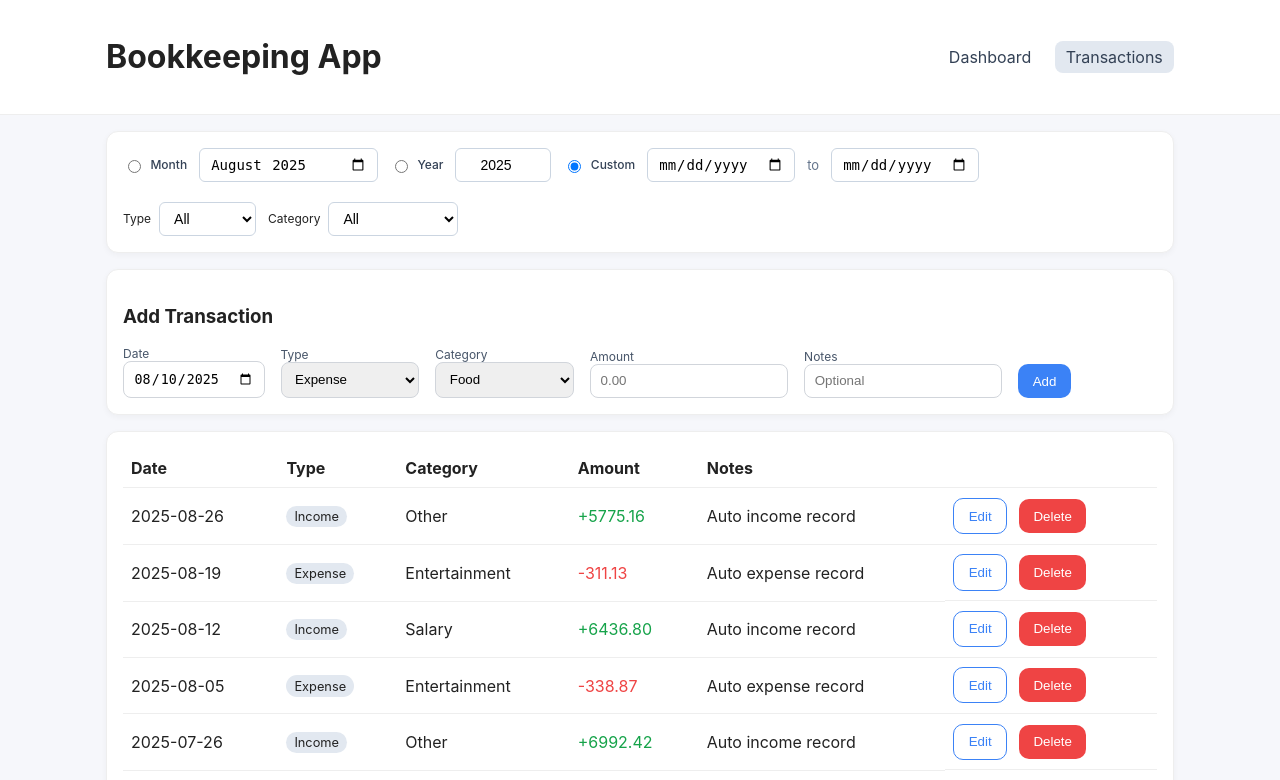
Scenario: Bookkeeping E2E - critical flows (Category=Other) › edits a transaction
Select "Other" in the 2nd dropdown at x=393, y=219, box [328,202,458,236]
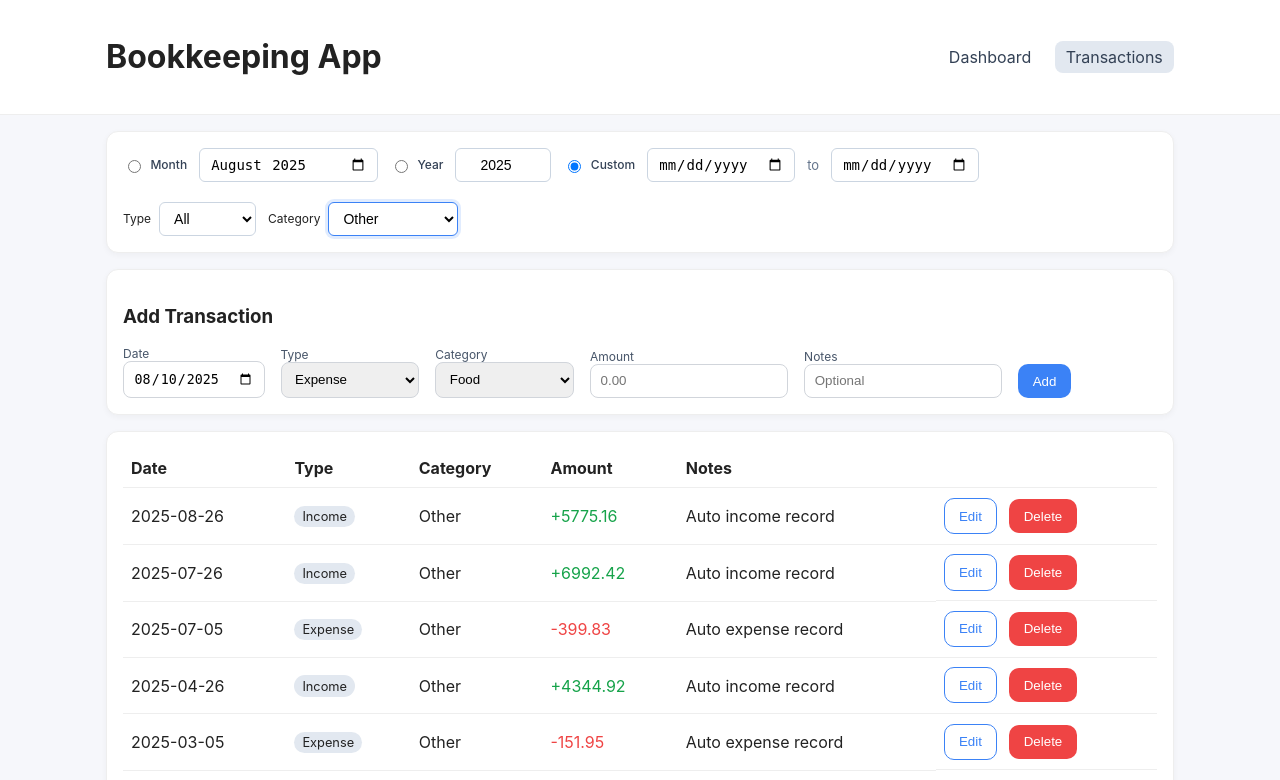
Select "Income" in the 1st dropdown at x=208, y=219, box [159,202,256,236]
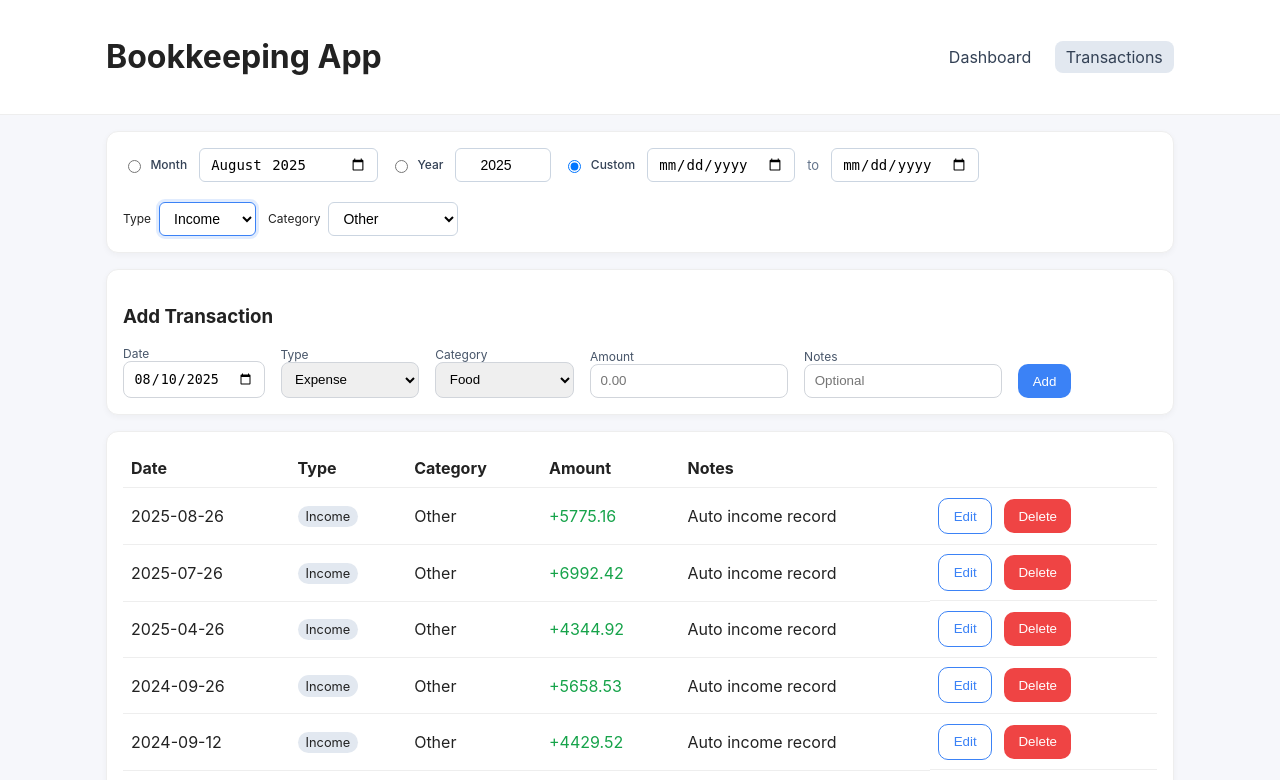
Click the button "Edit" in the row of "2025-08-26" at x=965, y=516, box [938,498,992,534]
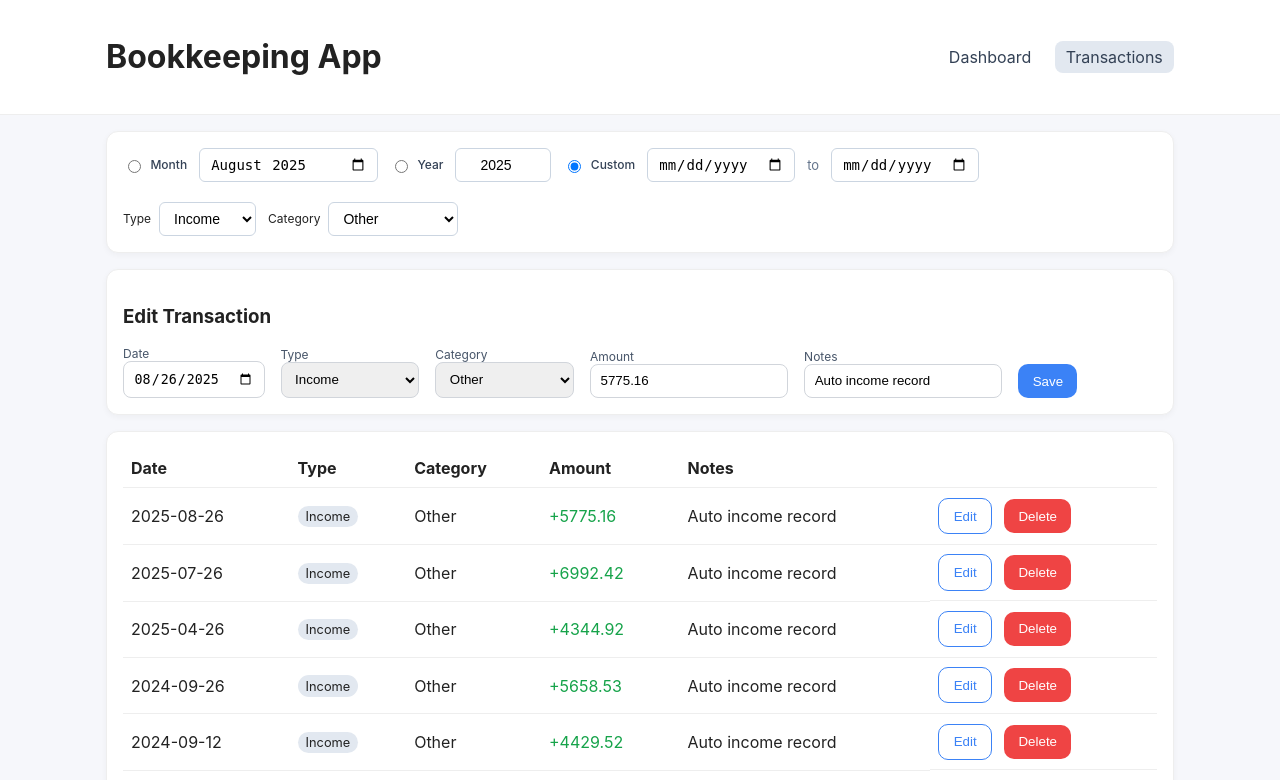
Expected: the heading "Edit Transaction" is shown, [123,305,271,328]
Replace the text in the 2nd number field with placeholder "0.00" with "123.45" at x=689, y=382, box [590,364,788,399]
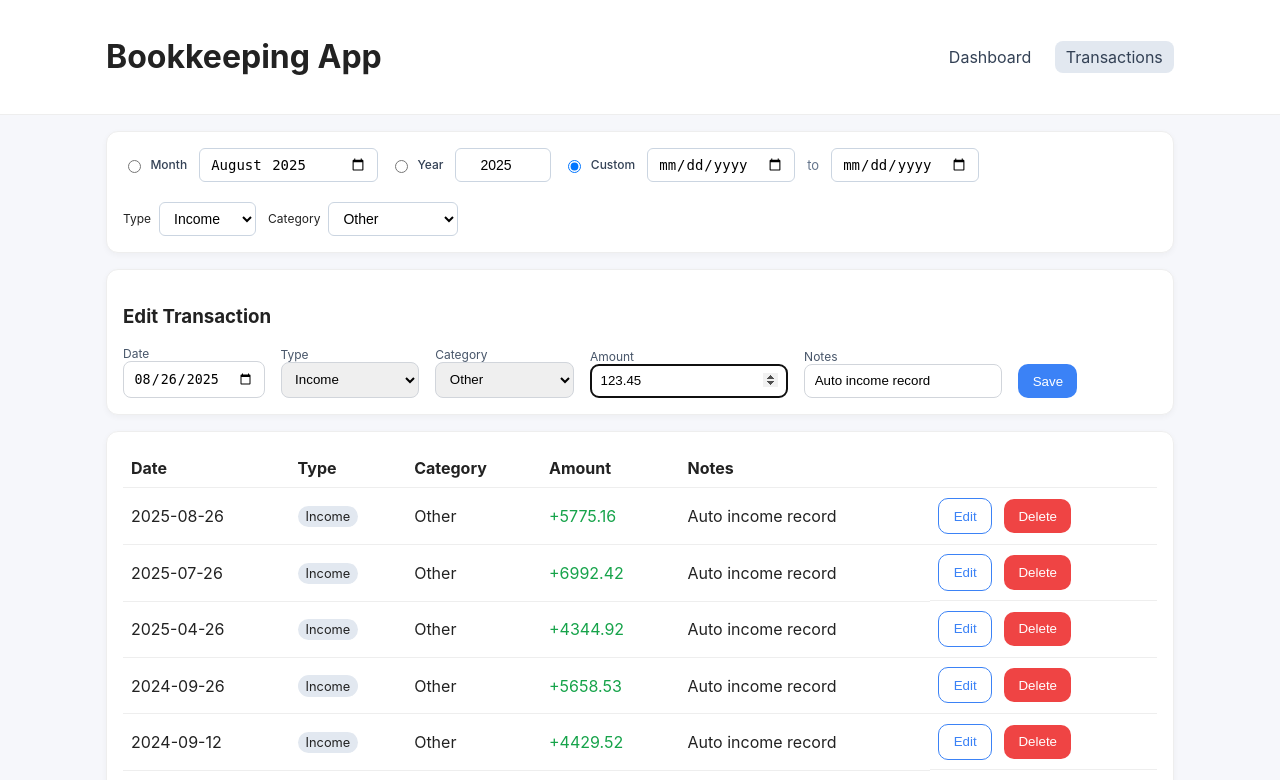
Click the button "Save" at x=1048, y=381, box [1018,364,1077,398]
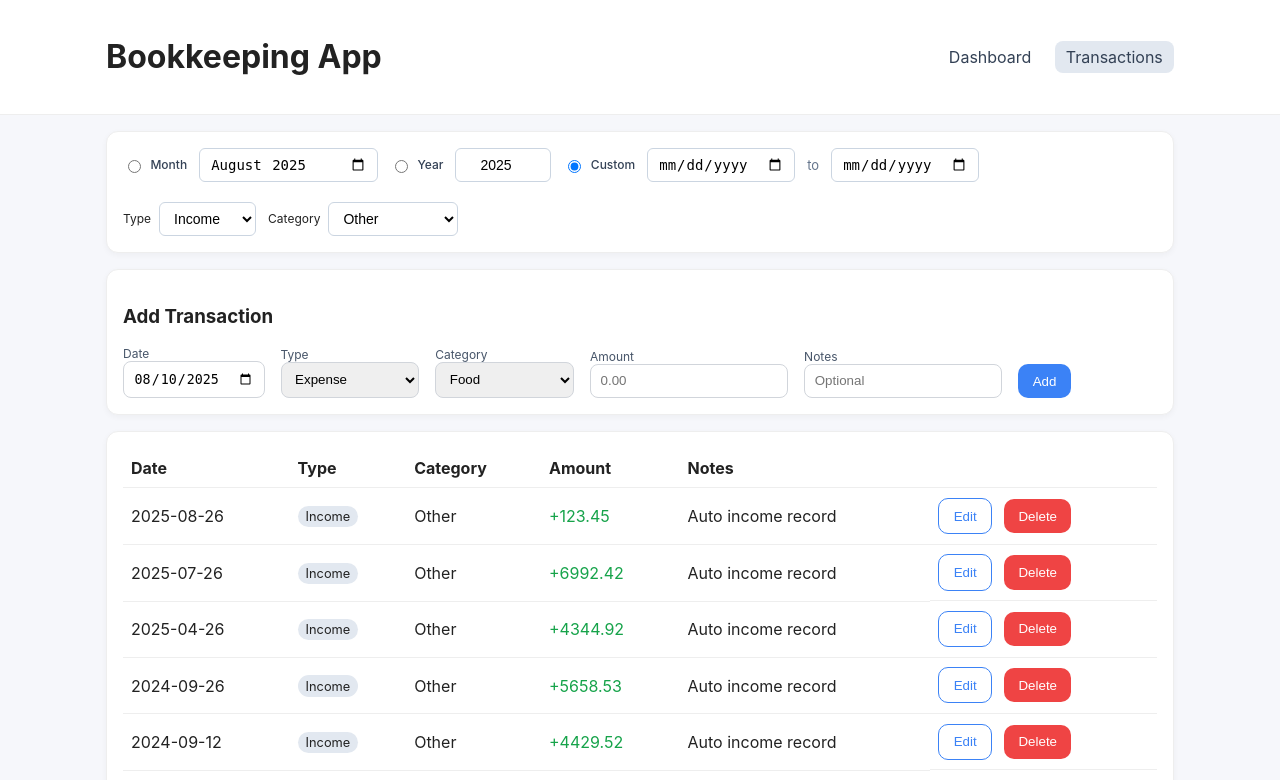
Expected: the text "123.45" is shown, [560,506,610,526]
